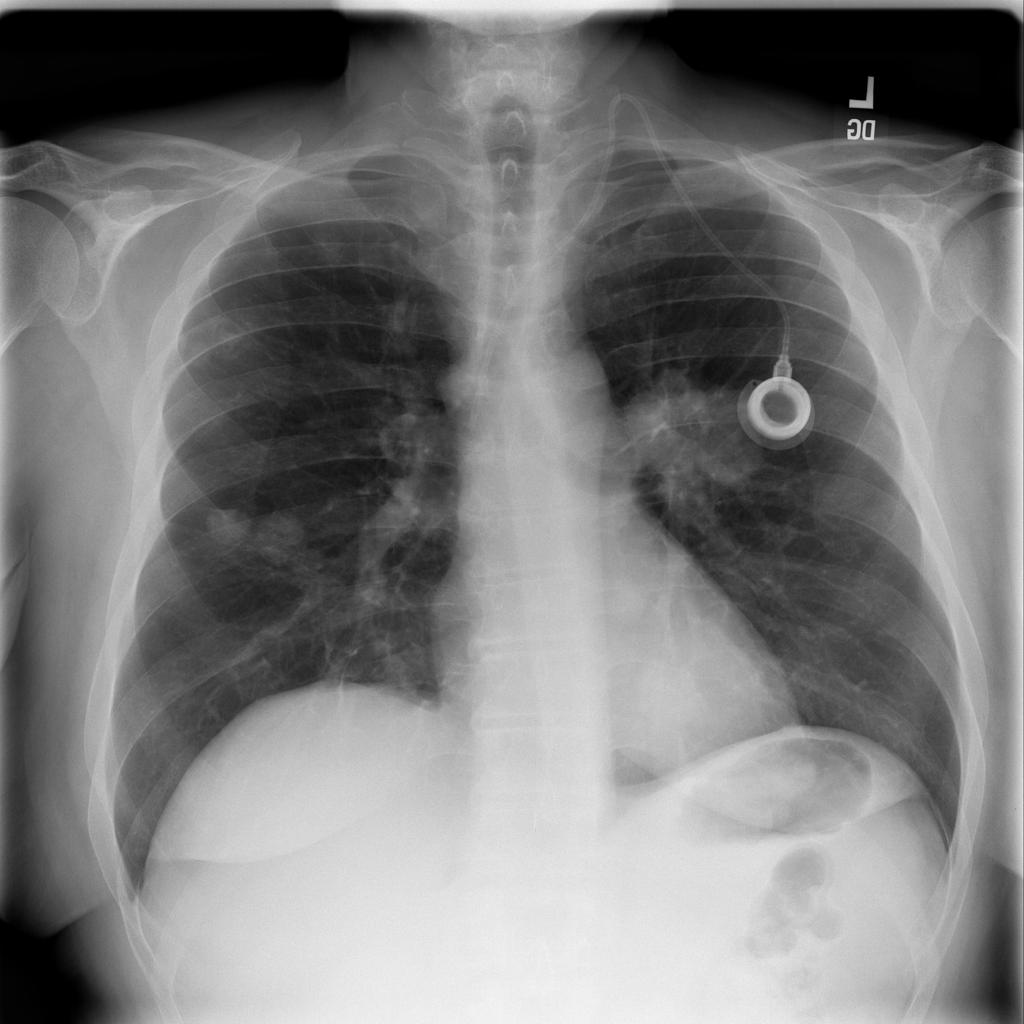nodule: (604, 354, 767, 508), (607, 644, 737, 763), (239, 503, 316, 574), (187, 493, 266, 560), (182, 310, 263, 375), (594, 565, 664, 638), (173, 325, 224, 375)
